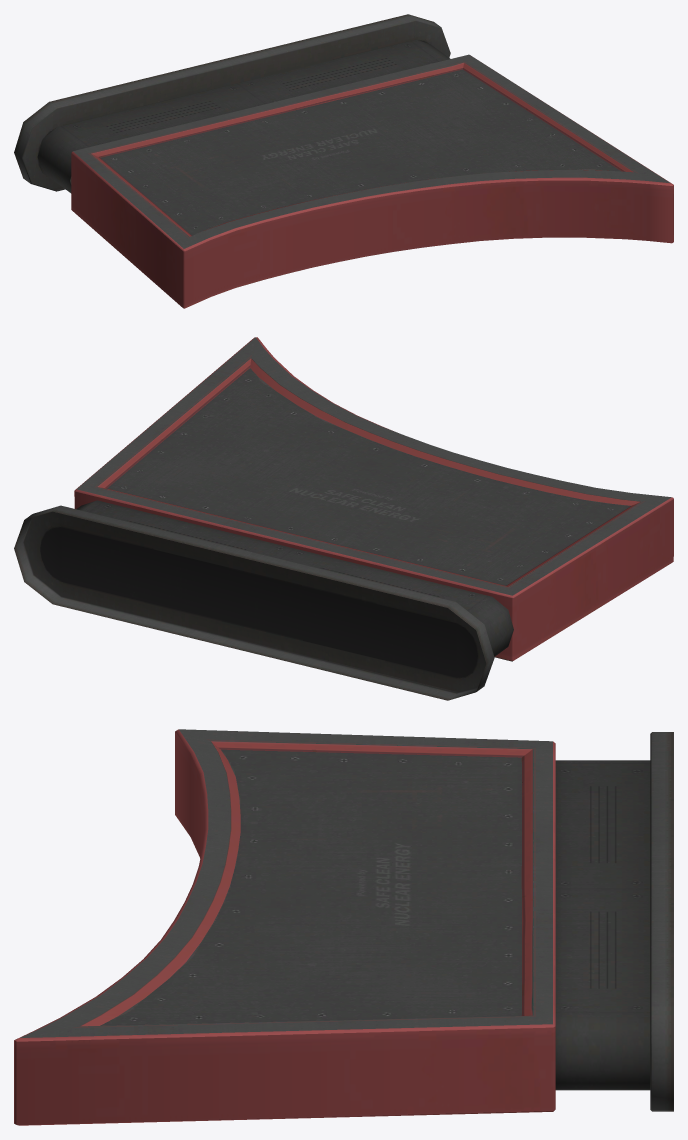
File: nt_sign_population_vcs_LOD1.obj
3 renders of one model, top to bottom at view 1: azimuth 30°, elevation 25°; view 2: azimuth 150°, elevation 25°; view 3: azimuth 270°, elevation 25°, orthographic. The views are drawn at different scales.
Visible parts, largest first — view 1: mtl_nt_sign_population; view 2: mtl_nt_sign_population; view 3: mtl_nt_sign_population.
Part boxes in pixels (left/top/right/bottom): mtl_nt_sign_population: left=14, top=14, right=673, bottom=308; mtl_nt_sign_population: left=14, top=337, right=673, bottom=700; mtl_nt_sign_population: left=14, top=729, right=673, bottom=1125.
Bounding box in the file's own units: 395 × 72.93 × 354.
